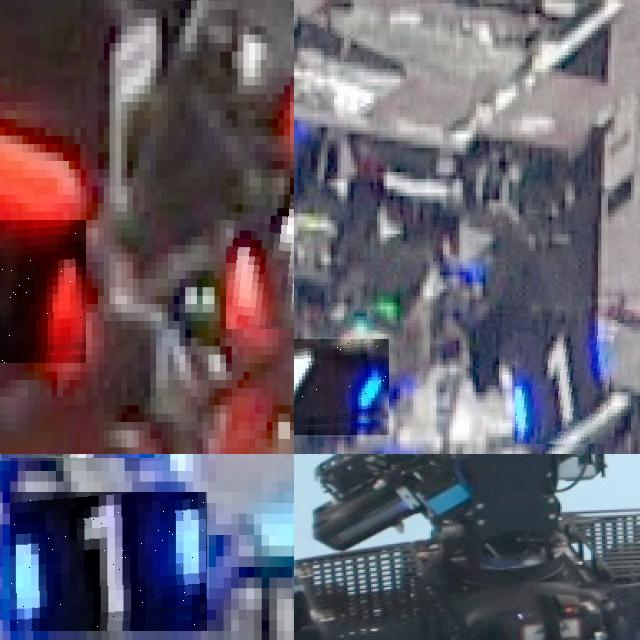B1: (10, 492, 208, 631), (515, 323, 615, 444), (294, 338, 388, 435)
R1: (0, 220, 86, 363), (226, 194, 294, 329)
